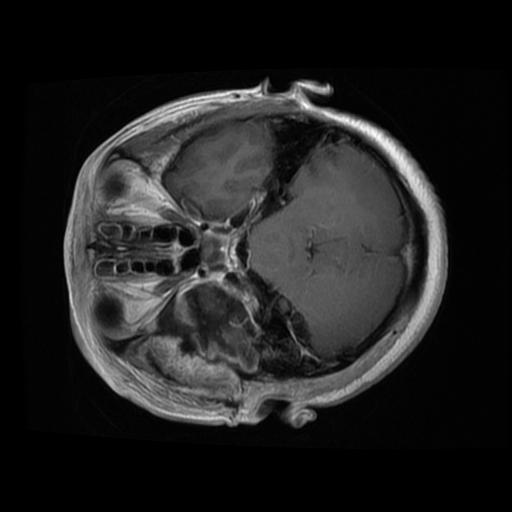glioma: (158, 288, 260, 375)
